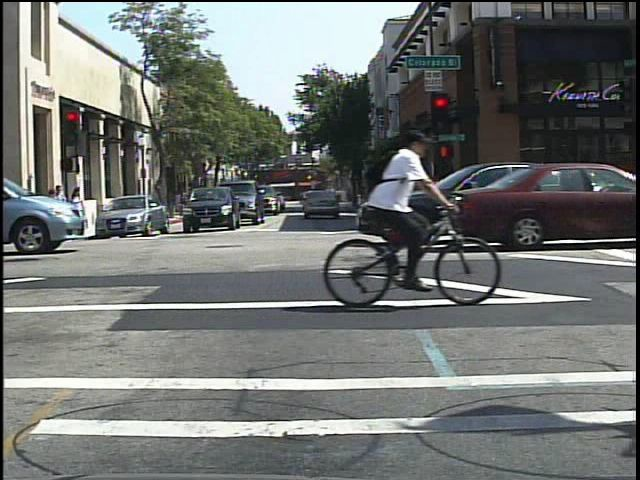person: (356, 122, 445, 301)
